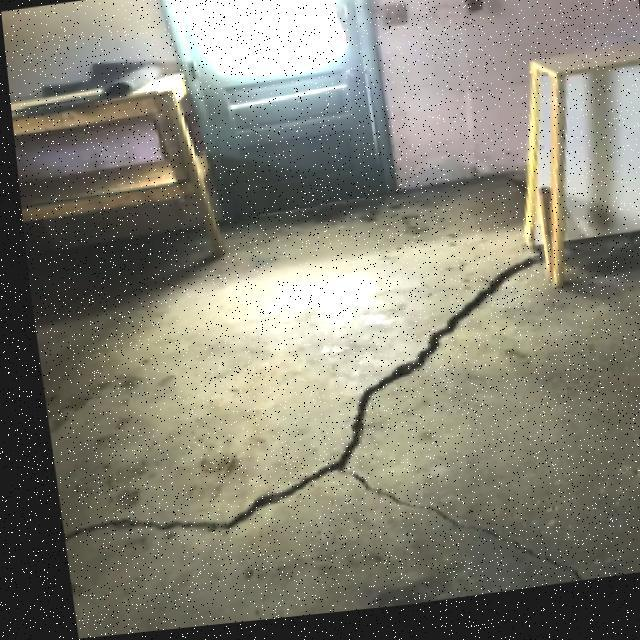branched cracks: (65, 242, 582, 581)
